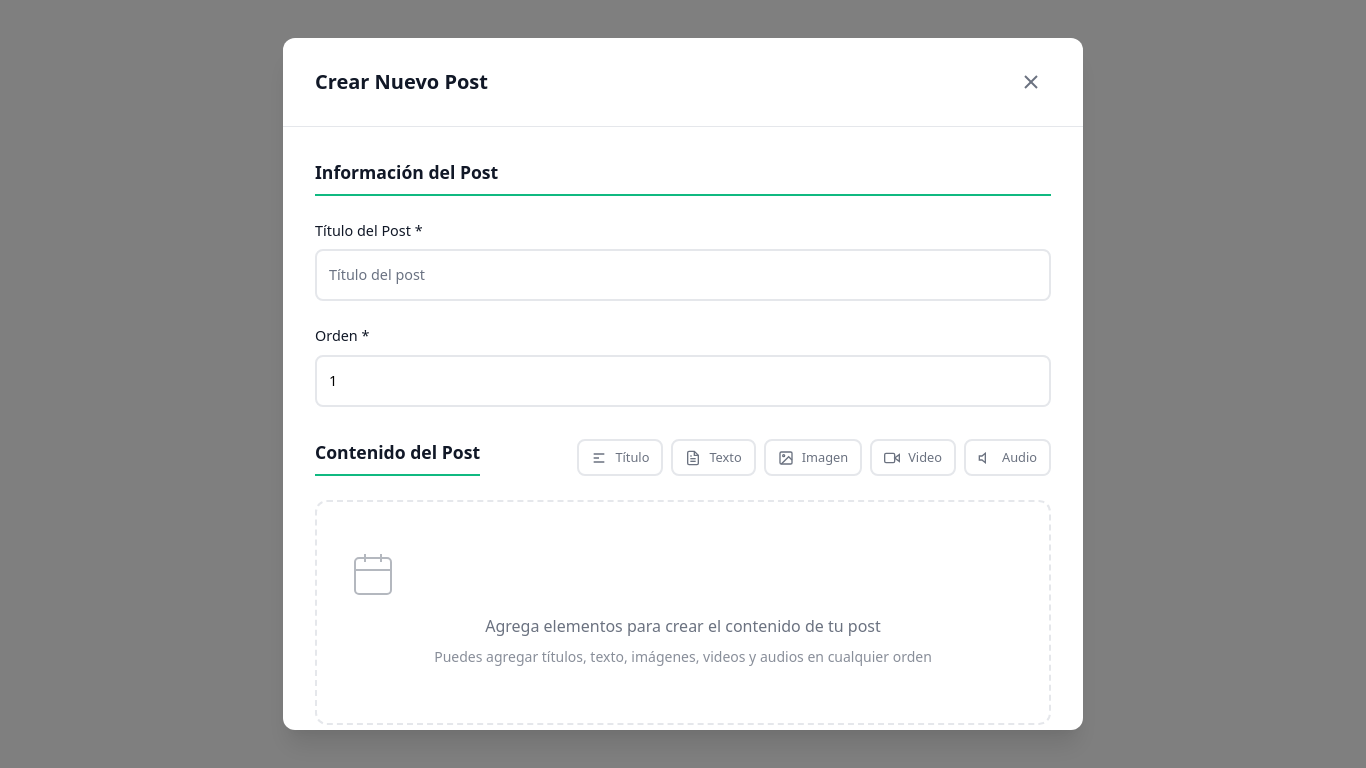
PostForm › shows a validation error if the user tries to submit without elements
Type "Nuevo Post" into the field labelled "Título del Post *". click: (683, 275)
box: [315, 249, 1051, 301]
(page scrolled)
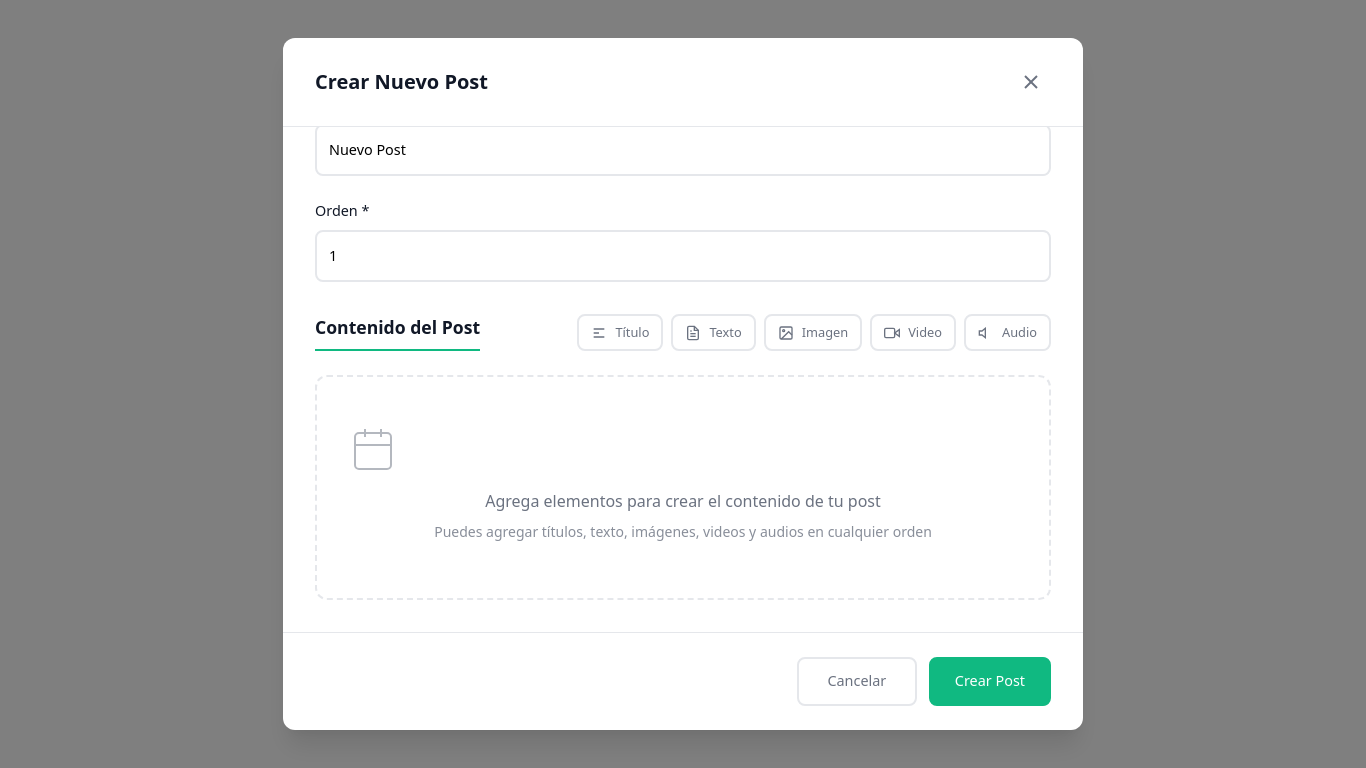
Click the button "Crear Post". click: (990, 681)
box: [929, 657, 1051, 706]
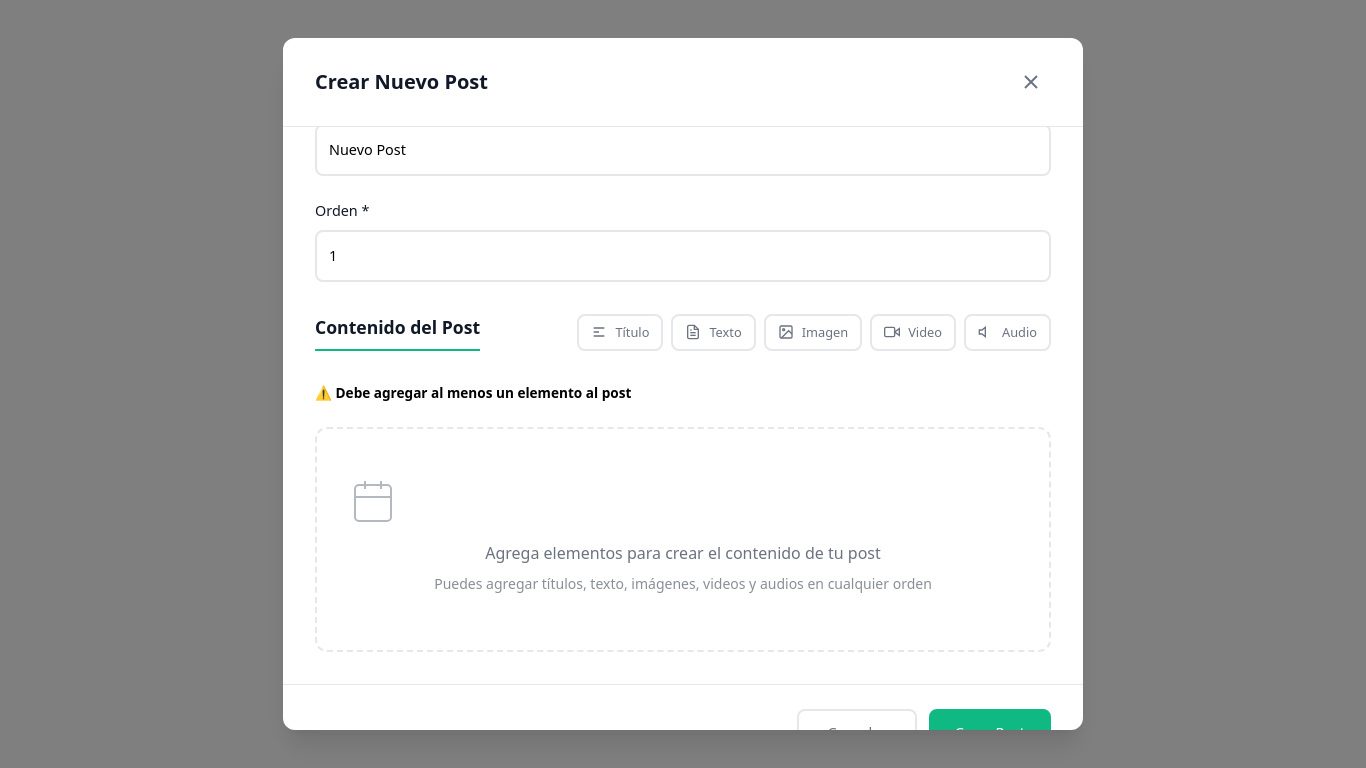
Expected: the text "⚠️ Debe agregar al menos un elemento al post" is shown, [315, 383, 631, 402]
